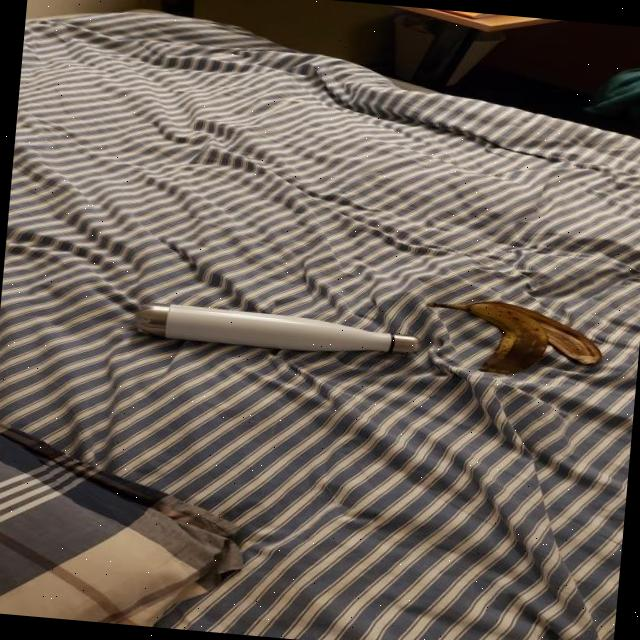banana-peel: (421, 292, 605, 384)
